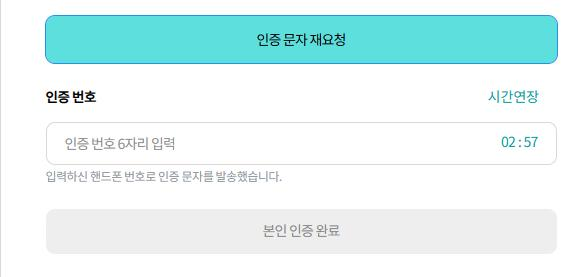button: (42, 12, 562, 69), (47, 203, 558, 261), (485, 83, 544, 110)
input_field: (42, 117, 561, 168)
